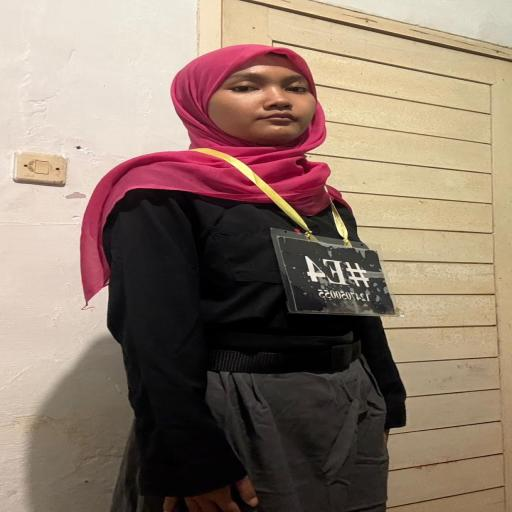kemeja_salah: (92, 194, 386, 351)
kerudung_benar: (119, 44, 348, 200)
nametag_ada: (262, 184, 410, 322)
rok_salah: (179, 362, 401, 512)
sabuk_ada: (180, 340, 387, 379)
